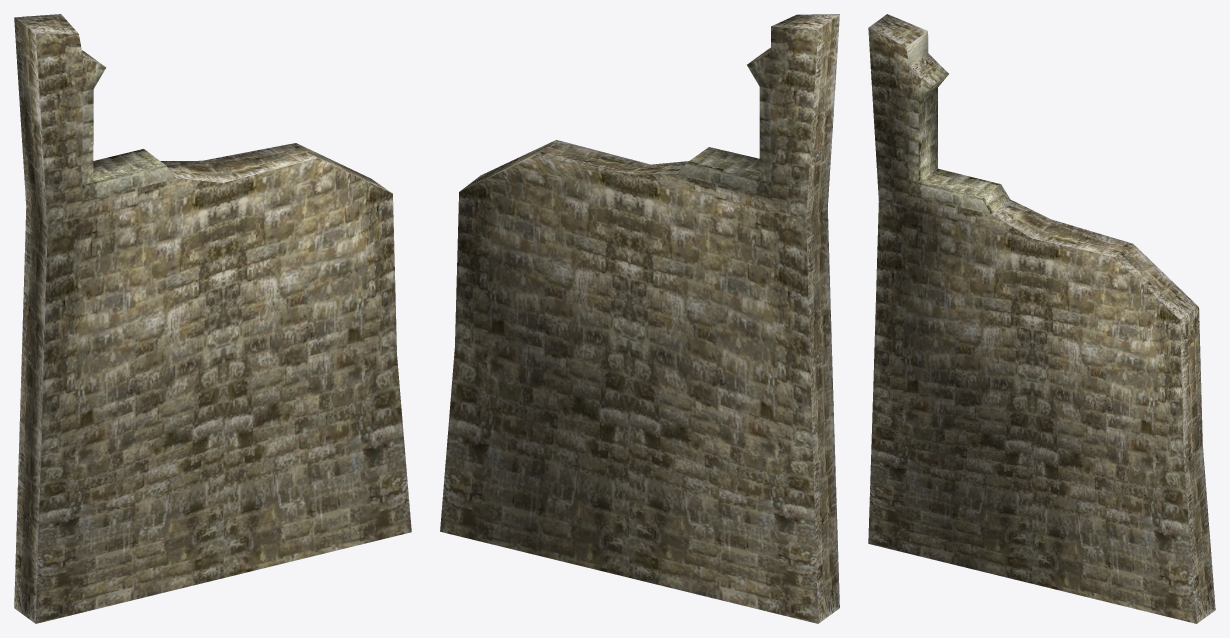
Rendered from OZ_22_ma_relic15C.glb.
3 views of the same model, side by side, from view 1: azimuth 30°, elevation 25°; view 2: azimuth 150°, elevation 25°; view 3: azimuth 330°, elevation 25° (orthographic). The views are drawn at different scales.
Parts seen in each view (by area): view 1: OM_22_ma_relic15C; view 2: OM_22_ma_relic15C; view 3: OM_22_ma_relic15C.
Boxes of the visible parts, x1,y1,x2,y2 form: OM_22_ma_relic15C: (14,14,411,623); OM_22_ma_relic15C: (440,14,839,623); OM_22_ma_relic15C: (868,14,1215,623).
Size of the model in its own units: 5.91 by 8.87 by 0.5991.
Materials: 3 (3 with a texture image).
